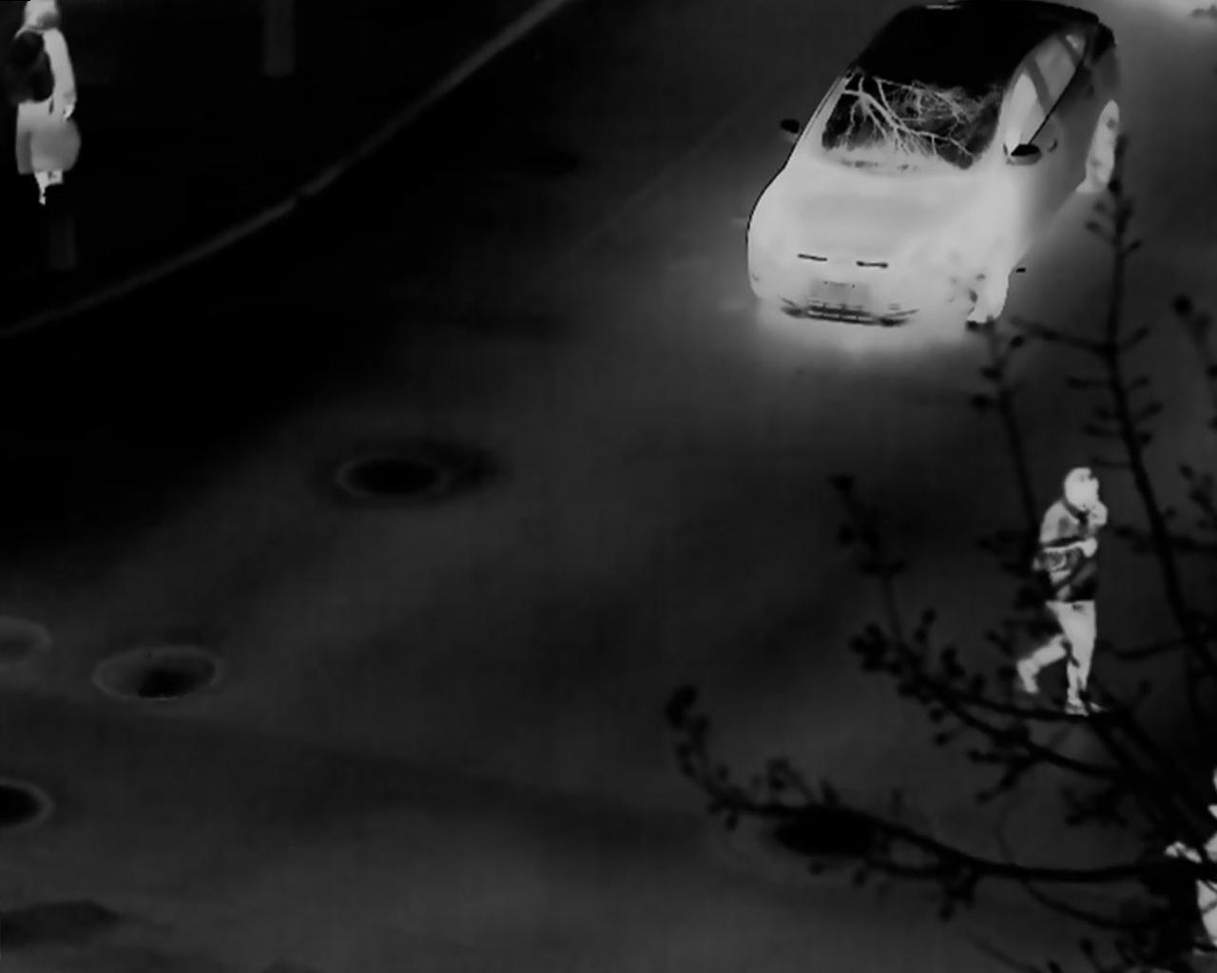person: (1014, 467, 1109, 715)
